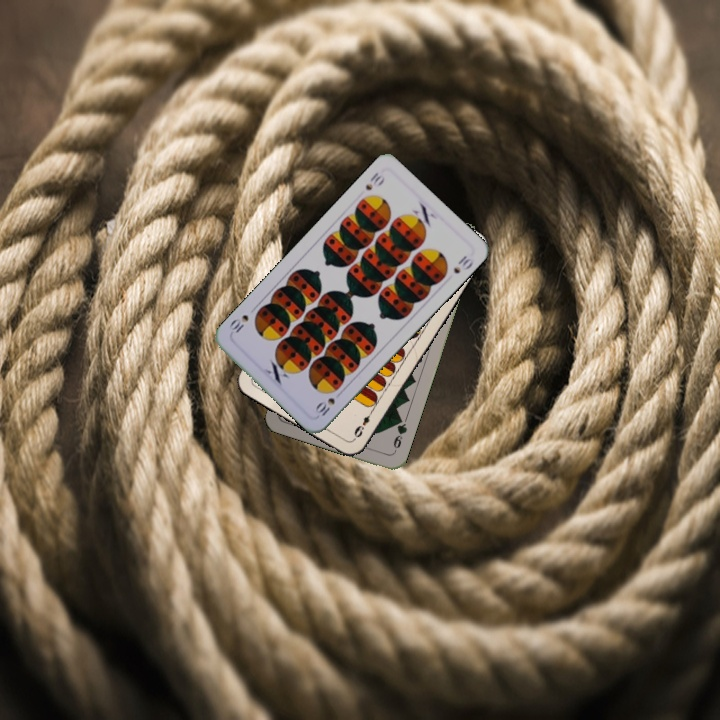E9: (350, 406, 376, 442)
G9: (389, 414, 410, 455)
S10: (311, 387, 345, 419), (361, 168, 388, 193)
